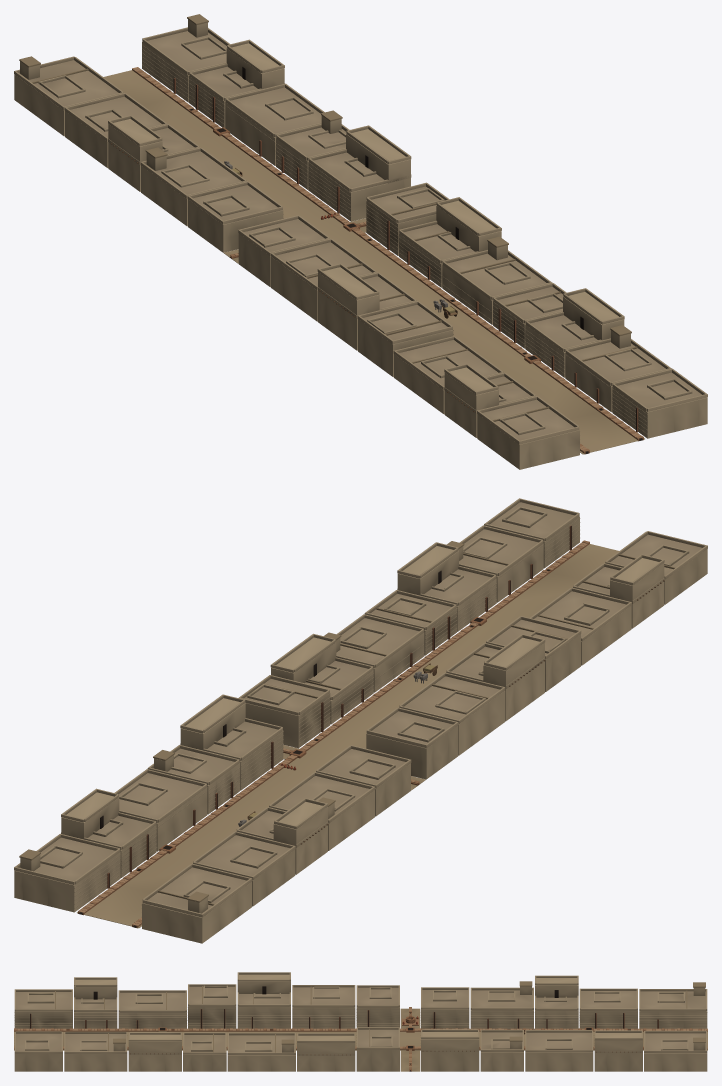
File: main-street.glb
3 renders of one model, top to bottom at view 1: azimuth 30°, elevation 25°; view 2: azimuth 150°, elevation 25°; view 3: azimuth 270°, elevation 25°, orthographic. The views are drawn at different scales.
Parts seen in each view (by area): view 1: p1_houses, p0_street and drains; view 2: p1_houses, p0_street and drains; view 3: p1_houses, p0_street and drains.
Boxes of the visible parts, left/top/right/bottom form: p1_houses: left=14, top=14, right=707, bottom=469; p0_street and drains: left=103, top=67, right=644, bottom=454; p1_houses: left=14, top=498, right=707, bottom=943; p0_street and drains: left=77, top=540, right=618, bottom=928; p1_houses: left=14, top=972, right=707, bottom=1071; p0_street and drains: left=14, top=1007, right=707, bottom=1071.
Size of the model in its own units: 30.5 by 8.14 by 140.
